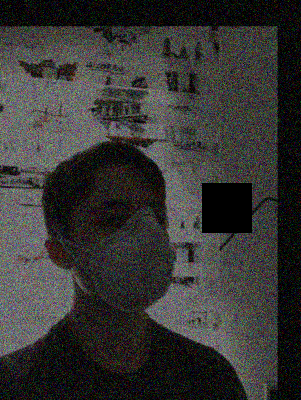with_mask: (83, 184, 173, 313)
